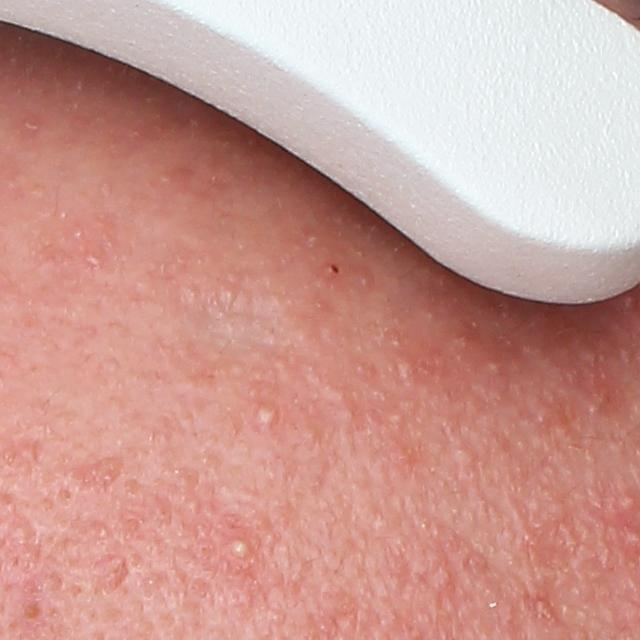atrophic_scar: (72, 456, 127, 491)
comedo: (448, 439, 479, 466)
pustule: (222, 533, 256, 562), (254, 401, 282, 426)
